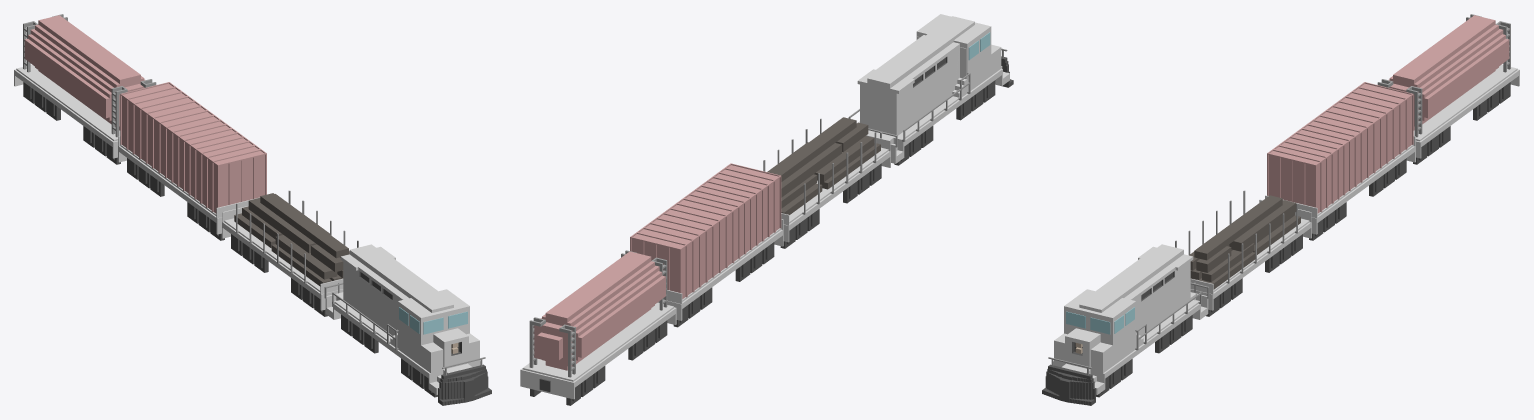
The model's file is vlak.fbx.
The picture shows the model from 3 angles, left to right: view 1: azimuth 30°, elevation 25°; view 2: azimuth 150°, elevation 25°; view 3: azimuth 330°, elevation 25°; orthographic projection. The views are drawn at different scales.
Visible parts, largest first — view 1: Camera; view 2: Camera; view 3: Camera.
Boxes of the visible parts, box(x1,y1,x2,y2) form: Camera: box(14, 14, 491, 405); Camera: box(520, 14, 1013, 405); Camera: box(1042, 14, 1519, 405).
Bounding box in the file's own units: 10.98 × 15.22 × 152.
